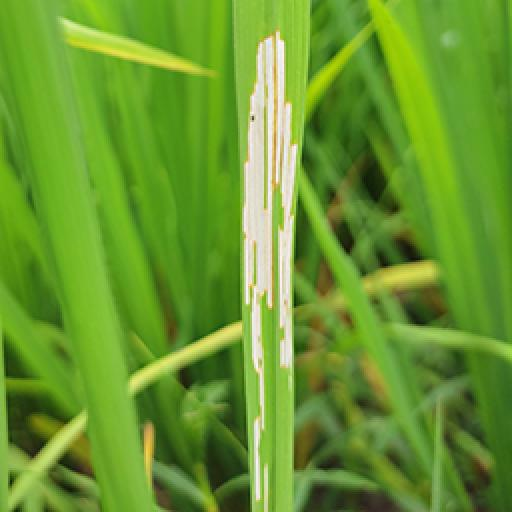Bacterial Leaf Blight: (232, 18, 300, 510)
